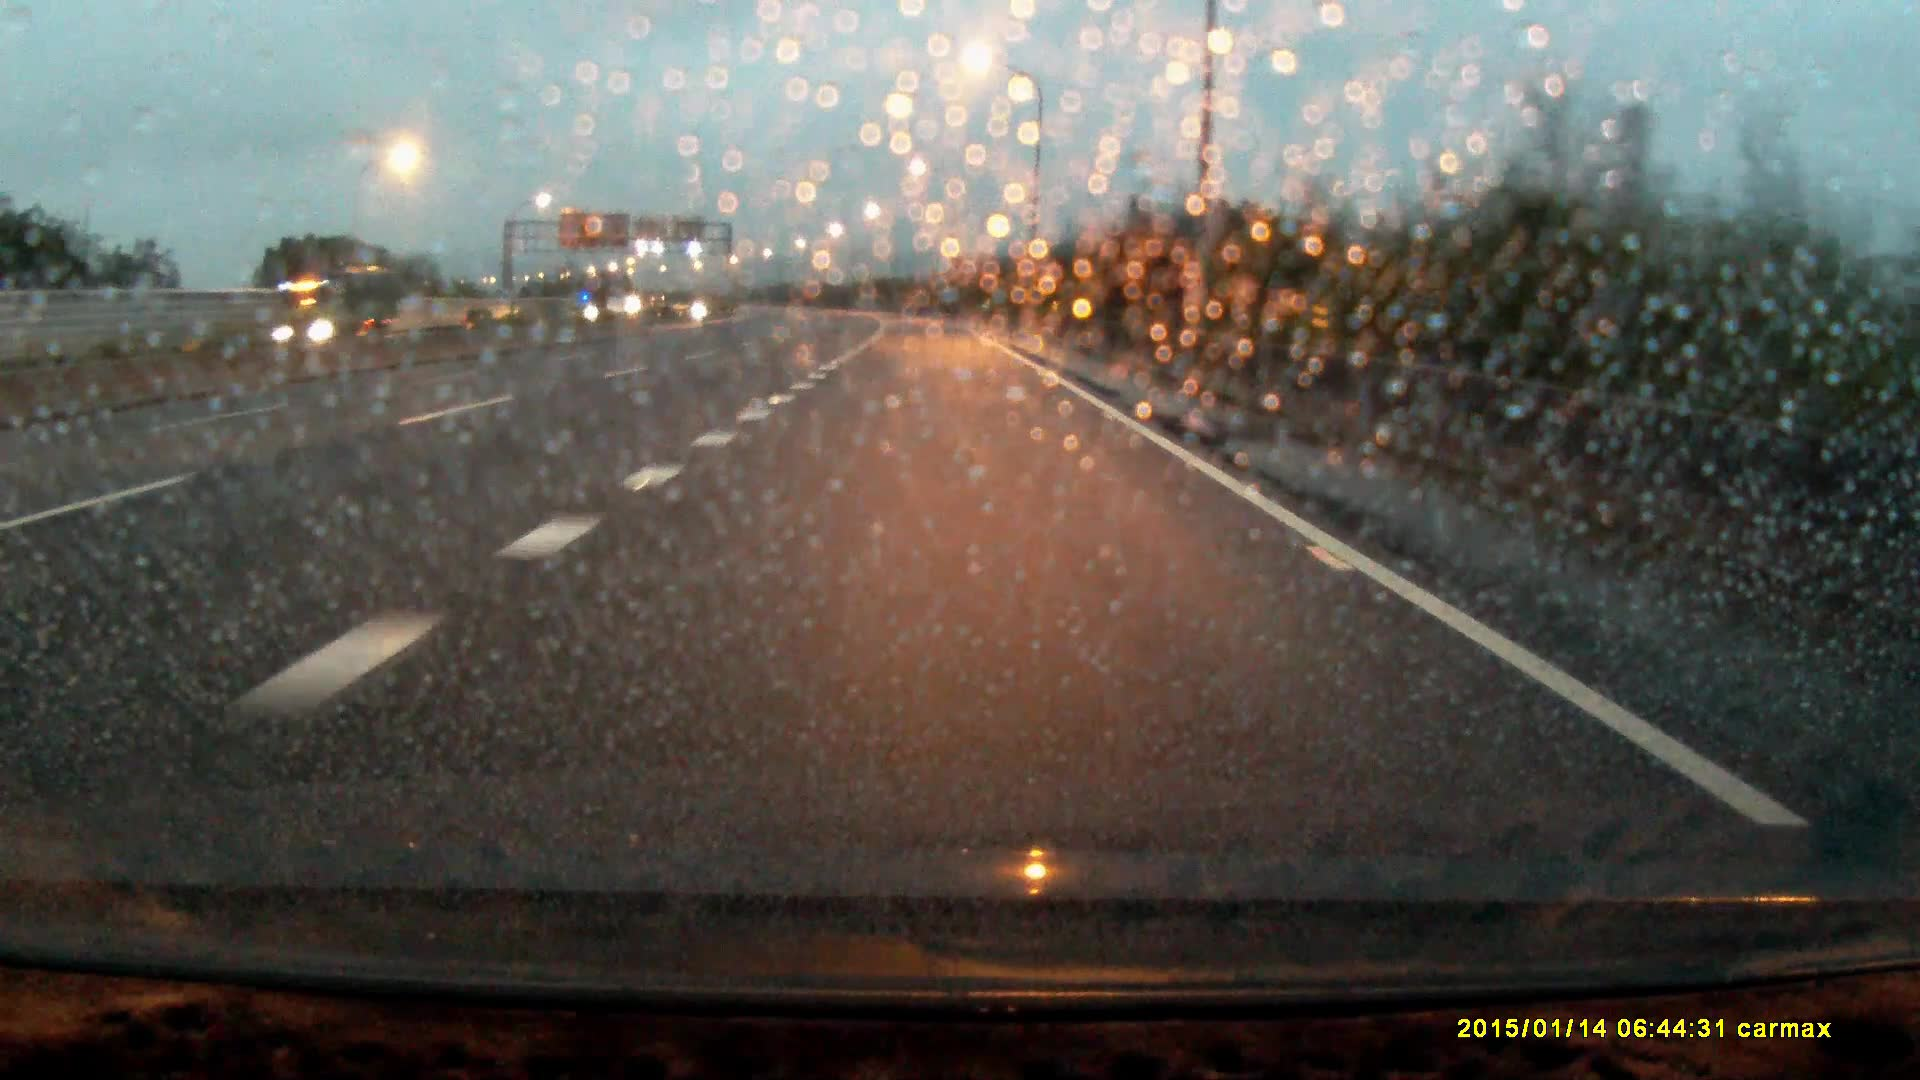vehicle: (269, 277, 388, 345)
